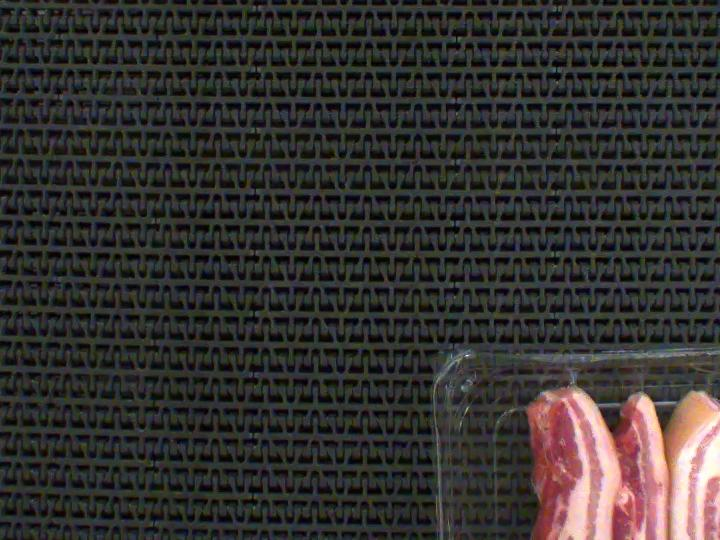packaging-error: (616, 362, 656, 397), (556, 358, 586, 389)
